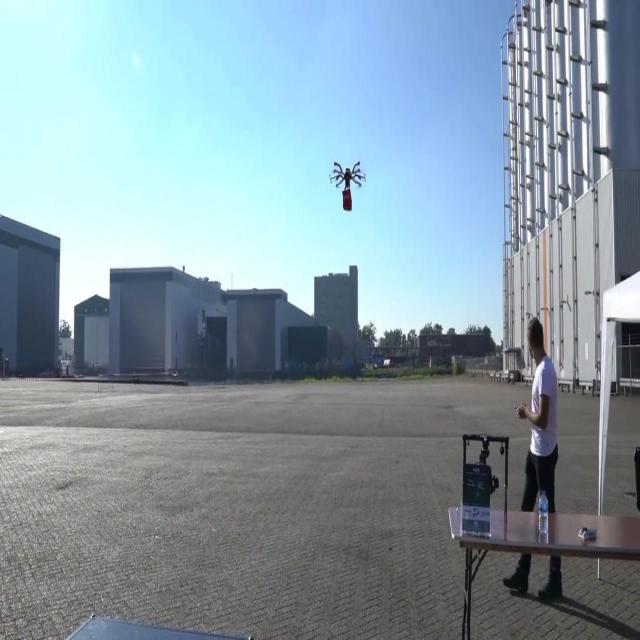UAV: (329, 161, 365, 192)
